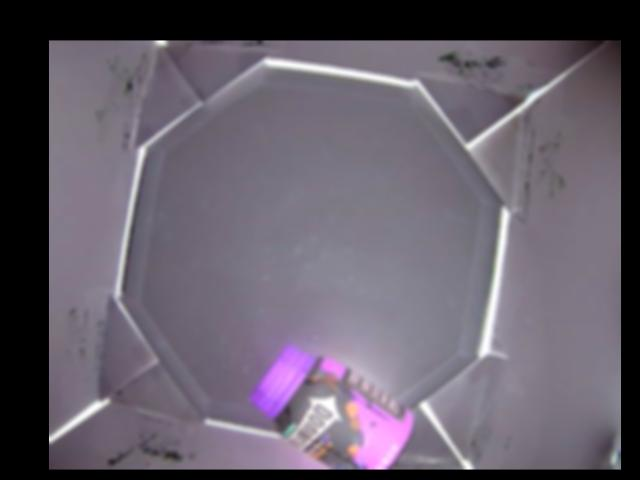Bottle: (248, 343, 414, 469)
